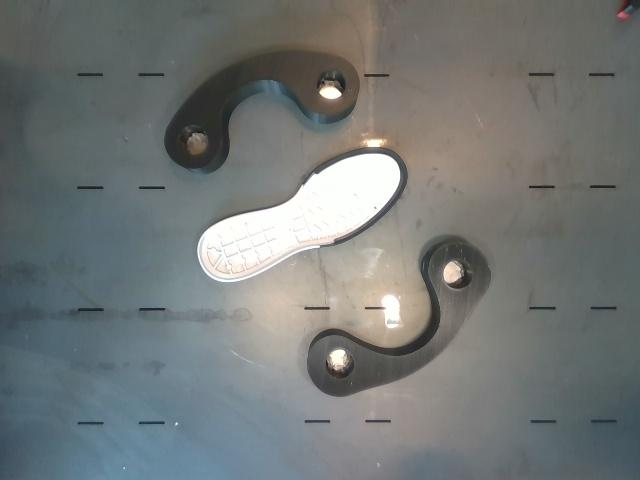shoes: (199, 148, 406, 281)
